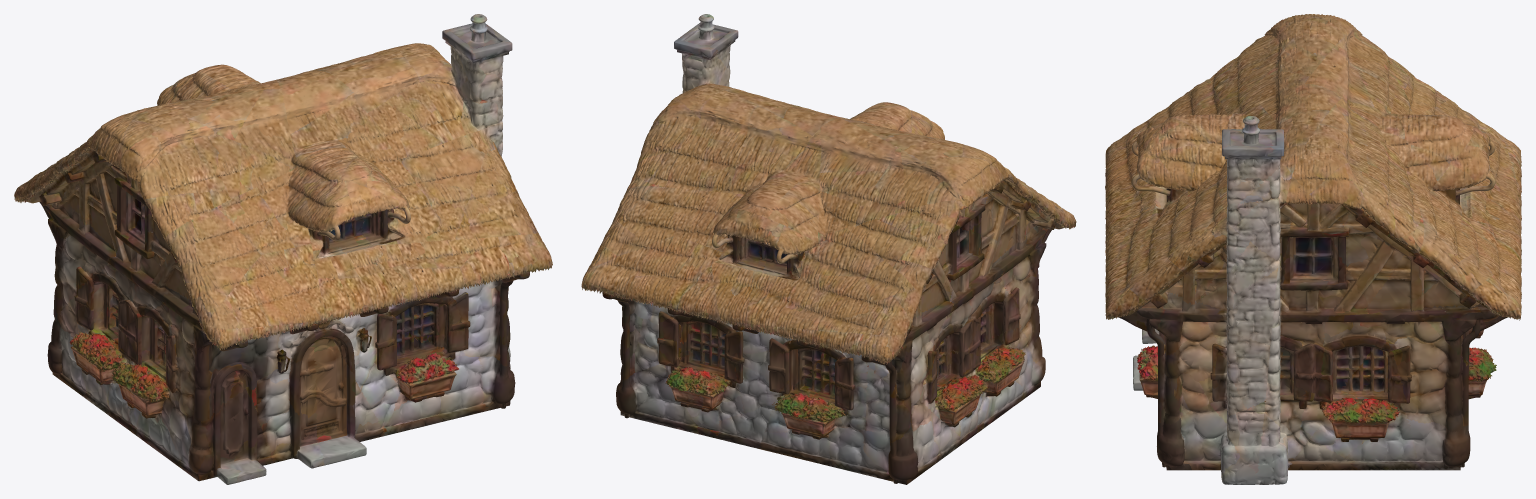
File: building 8.glb
3 renders of one model, left to right at view 1: azimuth 30°, elevation 25°; view 2: azimuth 150°, elevation 25°; view 3: azimuth 270°, elevation 25°, orthographic. The views are drawn at different scales.
Size of the model in its own units: 1.9 by 1.77 by 1.87.
Materials: 1 (1 with a texture image).
